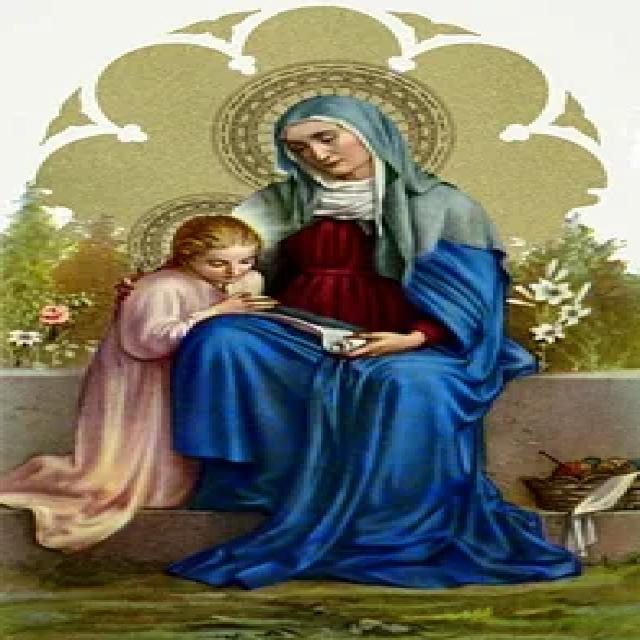mother of god: (196, 84, 524, 560)
